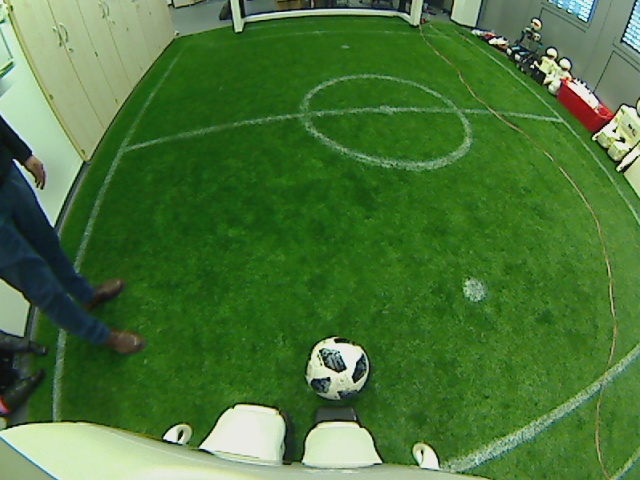ball: (302, 334, 373, 402)
